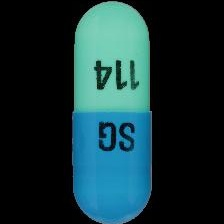31722-904: (0, 0, 224, 224)
